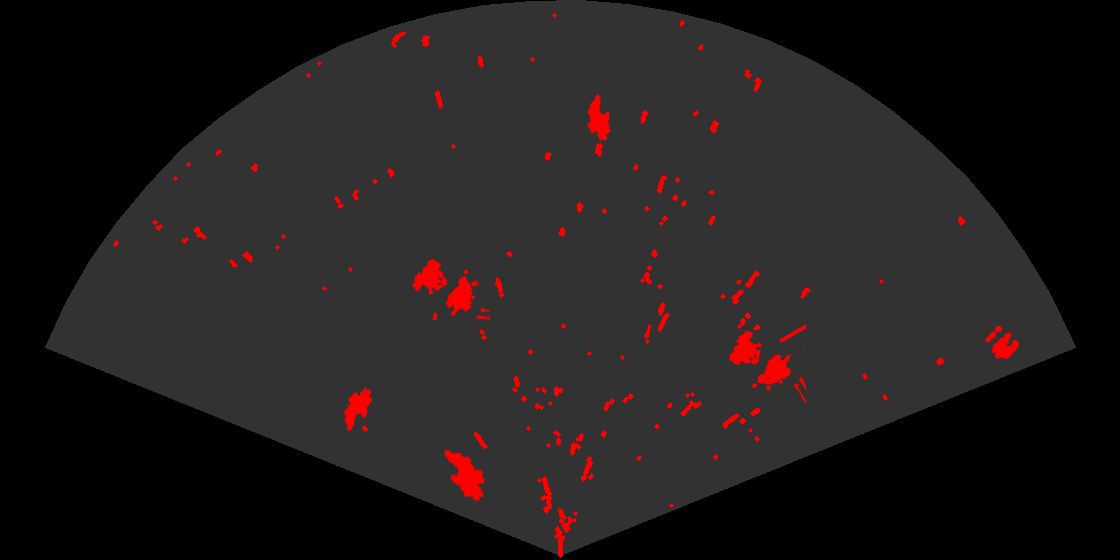AUV: (442, 448, 486, 503), (342, 386, 374, 433), (586, 92, 612, 143)
ball: (984, 324, 1020, 361)
cage: (728, 323, 806, 405), (410, 257, 490, 320)
